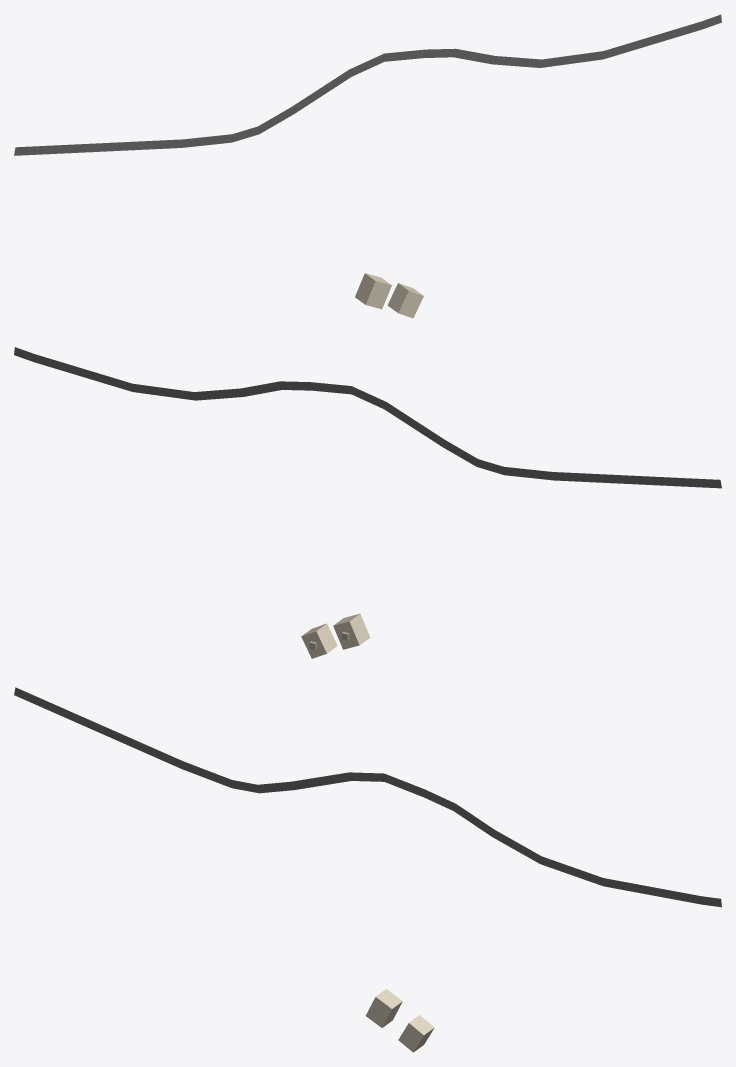
The model's file is historic-palestine-03_17_3452_3116.glb.
3 views of the same model, one above another, from view 1: azimuth 30°, elevation 25°; view 2: azimuth 150°, elevation 25°; view 3: azimuth 330°, elevation 25° (orthographic).
Visible parts, largest first — view 1: Road, Building_.001, Building_; view 2: Road, Building_.001, Building_; view 3: Road, Building_.001, Building_.
Boxes of the visible parts, x1,y1,x2,y2 form: Road: [14, 14, 721, 155]; Building_.001: [355, 273, 391, 309]; Building_: [387, 283, 423, 318]; Road: [14, 347, 721, 488]; Building_.001: [333, 613, 370, 649]; Building_: [301, 623, 337, 658]; Road: [14, 687, 721, 907]; Building_.001: [365, 989, 402, 1027]; Building_: [398, 1015, 434, 1052].
Bounding box in the file's own units: 284 × 104 × 8.7.
